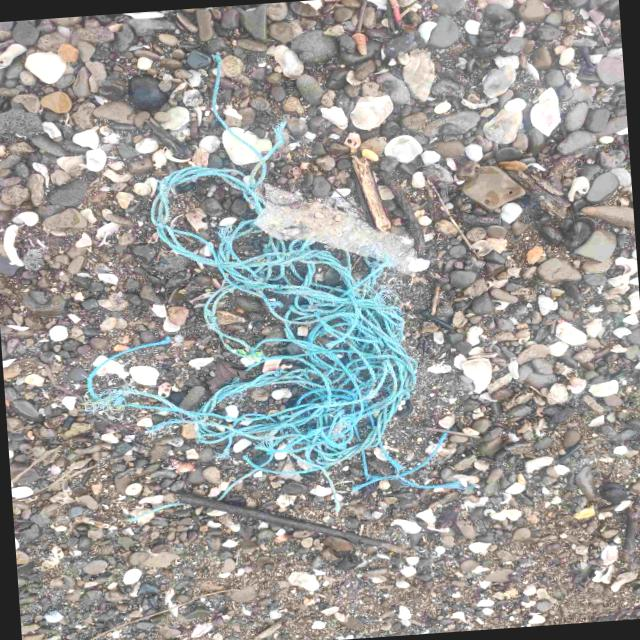nhua: (85, 154, 416, 472)
